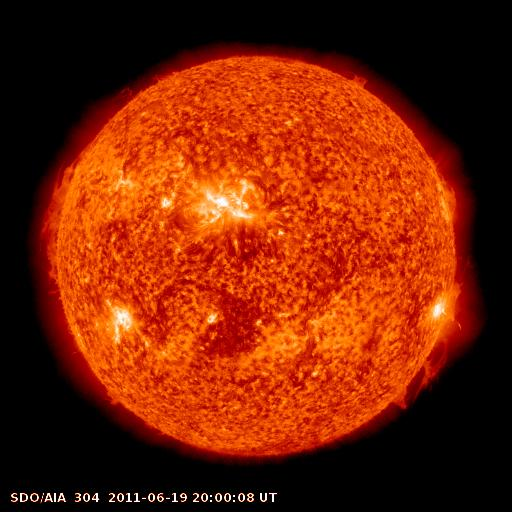prominence: (34, 136, 94, 304), (385, 329, 452, 413), (426, 153, 466, 222), (434, 277, 479, 326), (342, 62, 376, 96), (110, 80, 139, 112)
